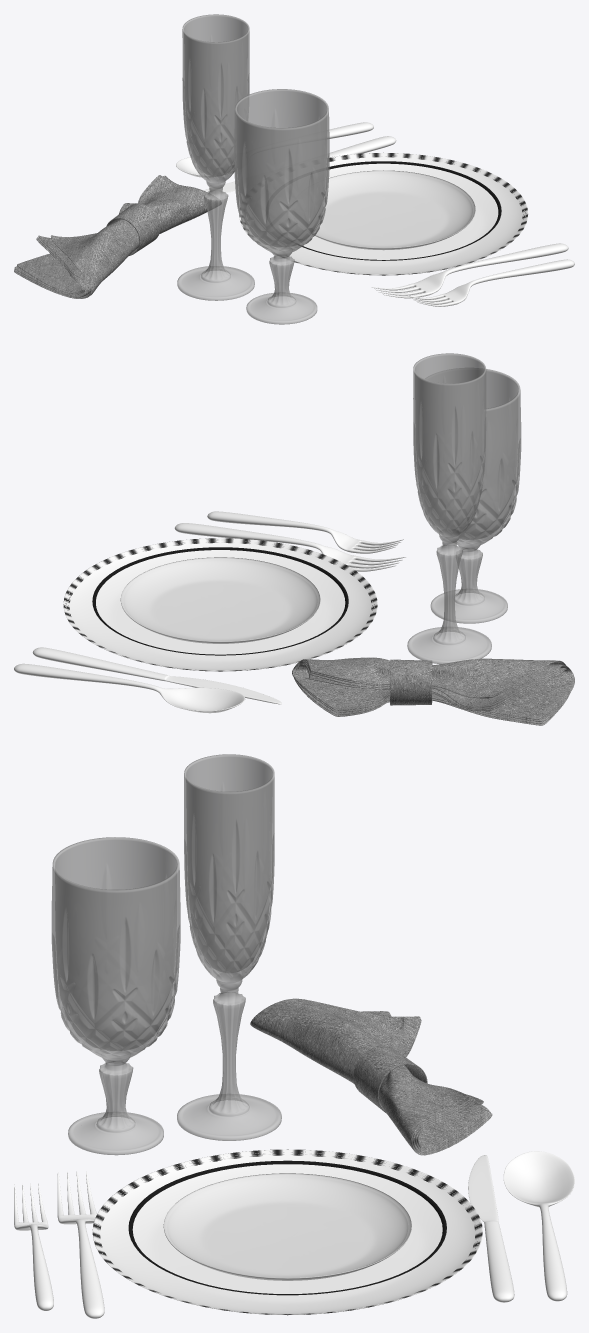
File: dinnerware.glb
The picture shows the model from 3 angles, top to bottom: view 1: azimuth 30°, elevation 25°; view 2: azimuth 150°, elevation 25°; view 3: azimuth 270°, elevation 25°; orthographic projection. The views are drawn at different scales.
Visible parts, largest first — view 1: SIII_Napkin346_SIII_glass_0.001, Cylinder779_Material #14sdffghg_0.001, Cylinder781_Material #2132728034_0.001, Line545_07 - Default_0.001, SIII_Napkin346_Material #2132728045_0.001, Line544_Material #2132728046_0.001, Cylinder780_Material #2132728037_0.001; view 2: SIII_Napkin346_SIII_glass_0.001, Cylinder779_Material #14sdffghg_0.001, Cylinder781_Material #2132728034_0.001, Line545_07 - Default_0.001, SIII_Napkin346_Material #2132728045_0.001, Line544_Material #2132728046_0.001, Cylinder780_Material #2132728037_0.001; view 3: SIII_Napkin346_SIII_glass_0.001, Cylinder779_Material #14sdffghg_0.001, Cylinder781_Material #2132728034_0.001, Line545_07 - Default_0.001, SIII_Napkin346_Material #2132728045_0.001, Cylinder780_Material #2132728037_0.001, Line544_Material #2132728046_0.001.
Part boxes in pixels (<box>): SIII_Napkin346_SIII_glass_0.001: <box>177,14,329,324</box>; Cylinder779_Material #14sdffghg_0.001: <box>239,152,528,275</box>; Cylinder781_Material #2132728034_0.001: <box>312,170,475,250</box>; Line545_07 - Default_0.001: <box>14,175,221,298</box>; SIII_Napkin346_Material #2132728045_0.001: <box>176,122,574,306</box>; Line544_Material #2132728046_0.001: <box>106,203,160,255</box>; Cylinder780_Material #2132728037_0.001: <box>299,161,501,260</box>; SIII_Napkin346_SIII_glass_0.001: <box>407,353,521,664</box>; Cylinder779_Material #14sdffghg_0.001: <box>63,538,377,671</box>; Cylinder781_Material #2132728034_0.001: <box>120,557,320,643</box>; Line545_07 - Default_0.001: <box>292,657,574,725</box>; SIII_Napkin346_Material #2132728045_0.001: <box>14,511,405,713</box>; Line544_Material #2132728046_0.001: <box>390,659,432,705</box>; Cylinder780_Material #2132728037_0.001: <box>92,547,348,655</box>; SIII_Napkin346_SIII_glass_0.001: <box>51,754,281,1155</box>; Cylinder779_Material #14sdffghg_0.001: <box>92,1149,482,1315</box>; Cylinder781_Material #2132728034_0.001: <box>163,1173,411,1280</box>; Line545_07 - Default_0.001: <box>250,998,492,1155</box>; SIII_Napkin346_Material #2132728045_0.001: <box>14,1151,574,1318</box>; Cylinder780_Material #2132728037_0.001: <box>128,1160,446,1295</box>; Line544_Material #2132728046_0.001: <box>353,1045,427,1113</box>.
Bounding box in the file's own units: 7.11 × 3.82 × 5.57.
Materials: 7 (3 with a texture image).
